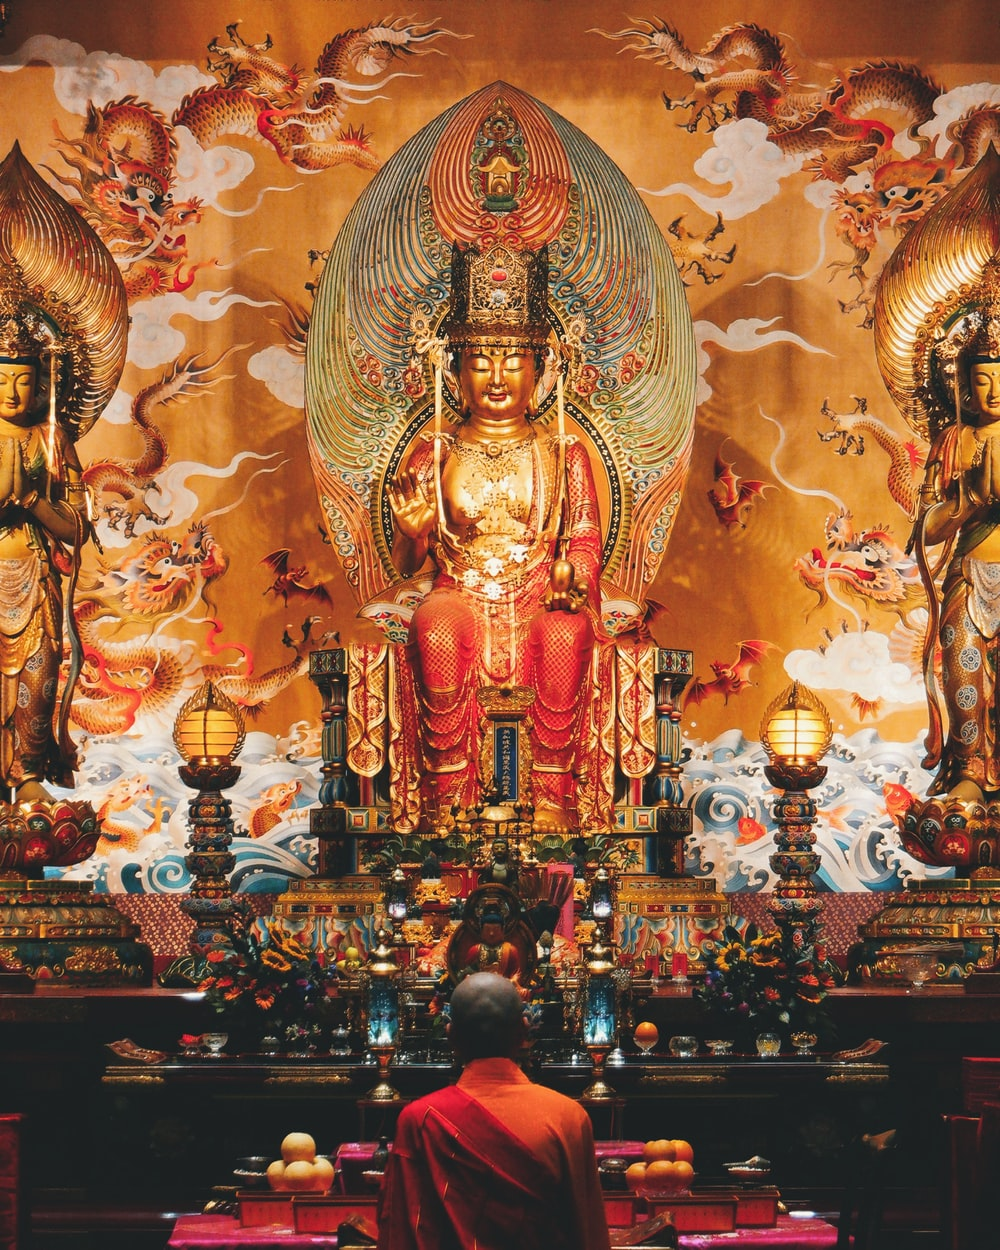face: (426, 909, 547, 1088)
